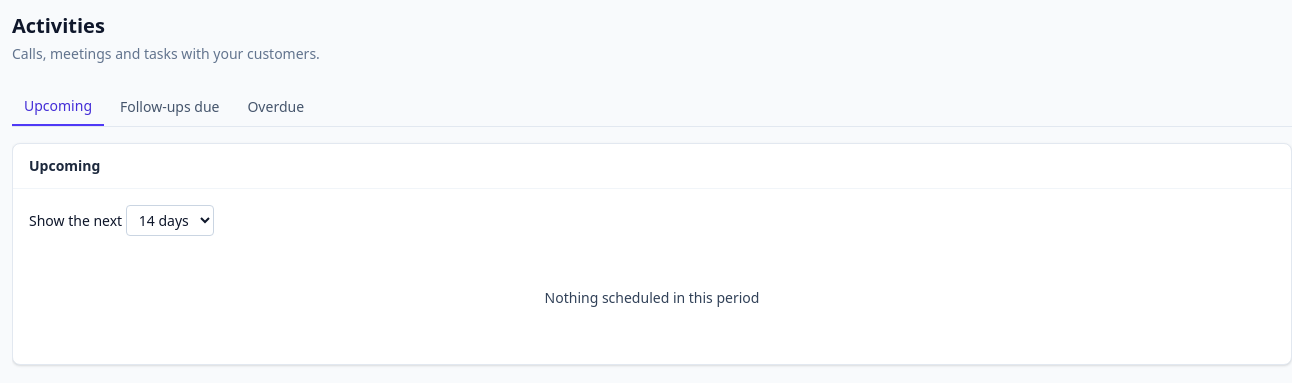
Test: ActivitiesPage › switches to follow-ups and overdue
expect the text "Nothing scheduled in this period" is shown: met, box [545,288,760,307]
Click the tab "Follow-ups due" at (170, 107), box [108,88,231,126]
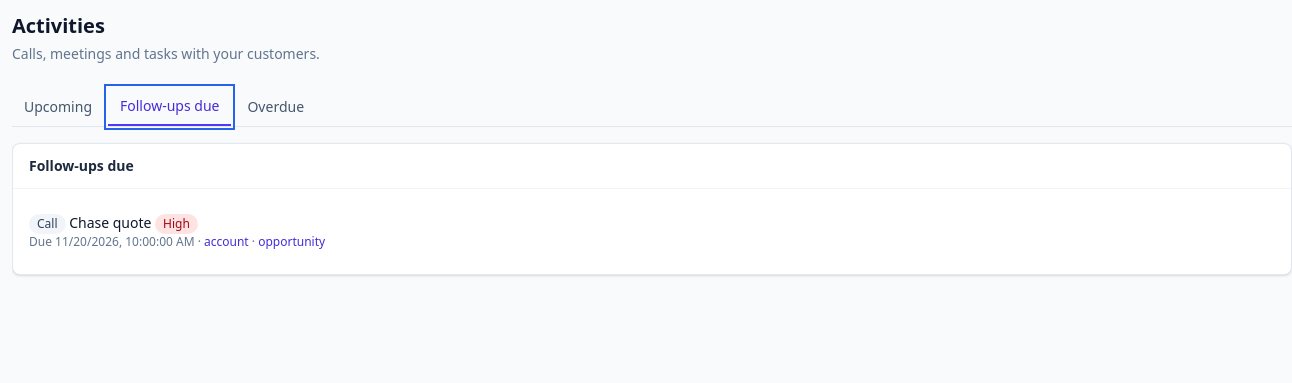
expect the text "Chase quote" is shown: met, box [69,213,152,232]
Click the tab "Overdue" at (276, 107), box [235,88,316,126]
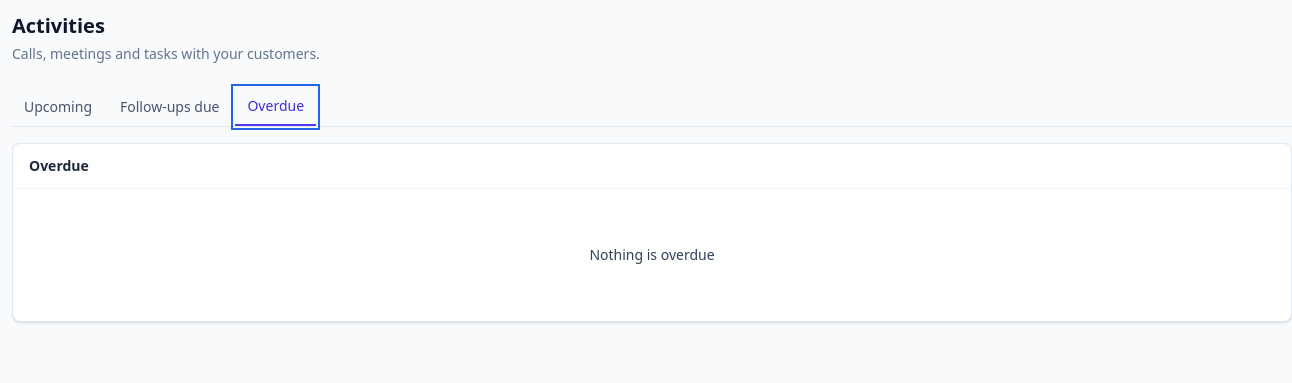
expect the text "Nothing is overdue" is shown: met, box [589,245,715,264]
